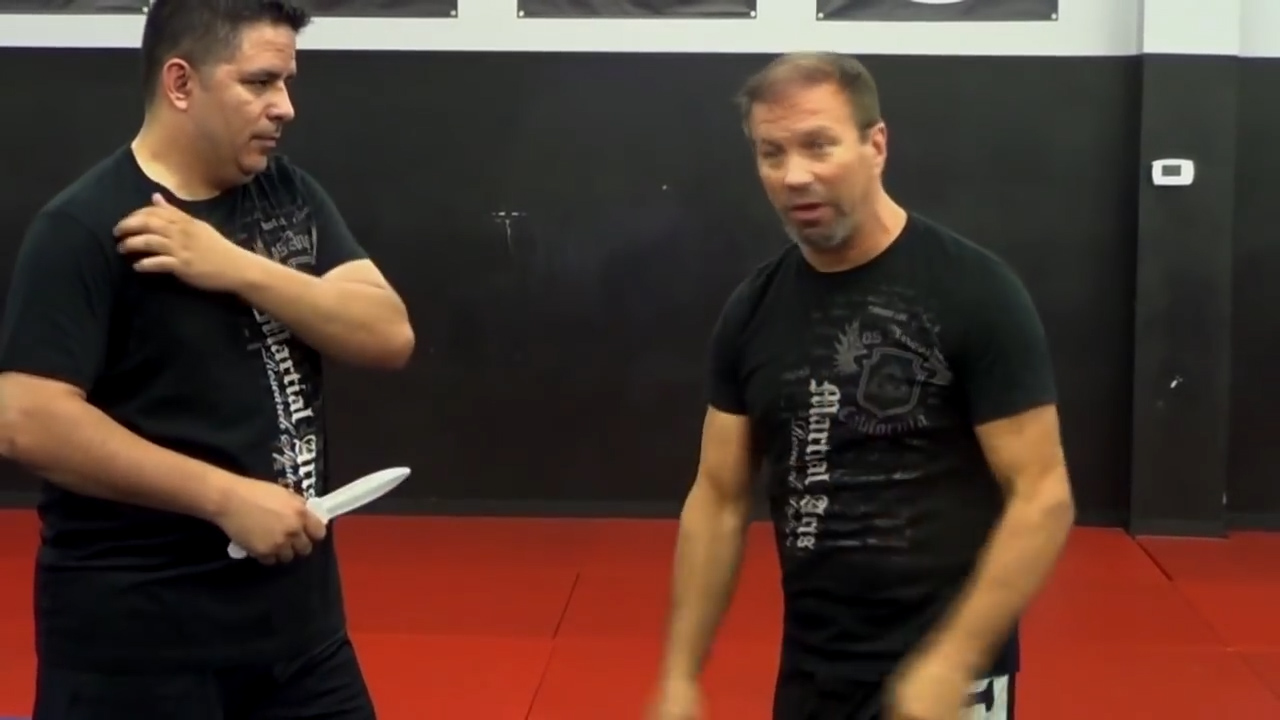knife: (221, 458, 419, 568)
